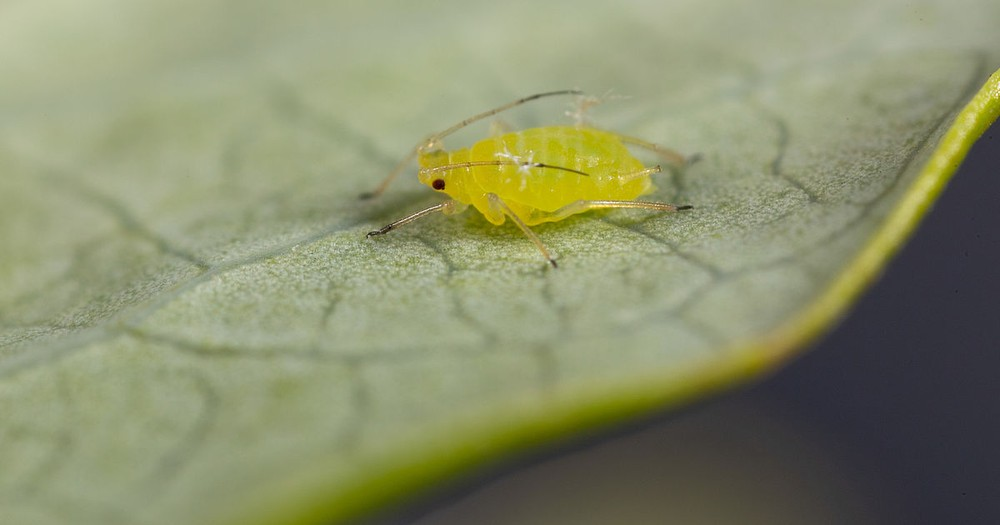Pulgon: (344, 74, 707, 284)
